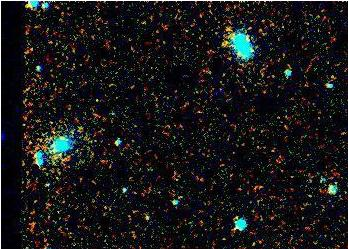star: (320, 61, 348, 91)
